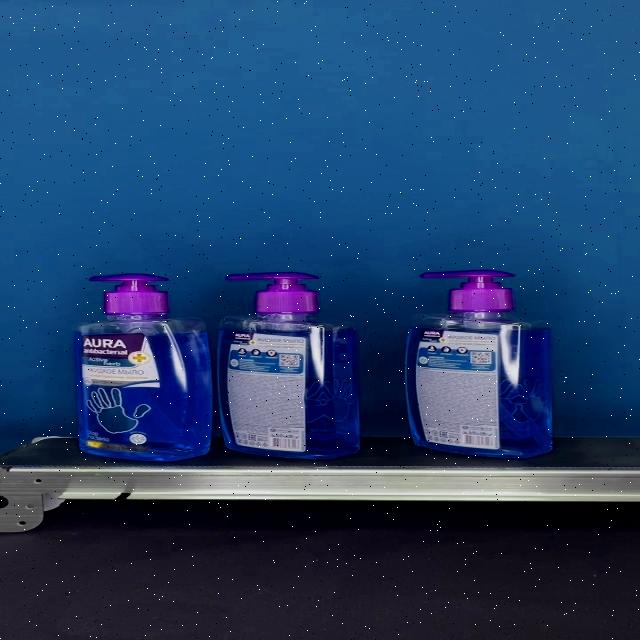Bottle: (404, 271, 553, 458), (216, 272, 360, 459), (76, 274, 212, 462)
Cap: (421, 270, 513, 314), (226, 272, 317, 314), (88, 274, 168, 314)
